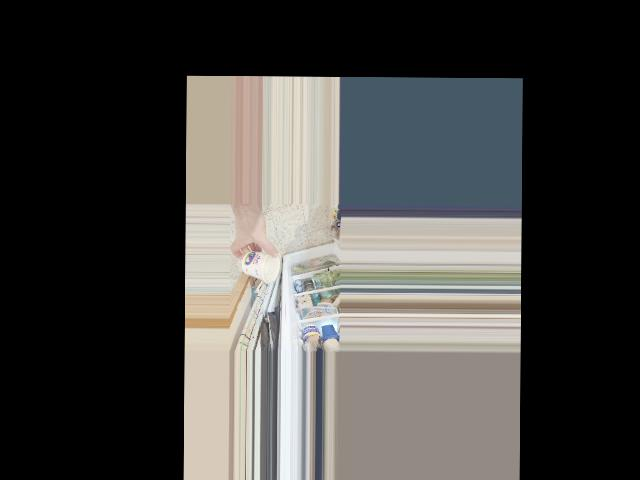cotage: (240, 245, 281, 284)
